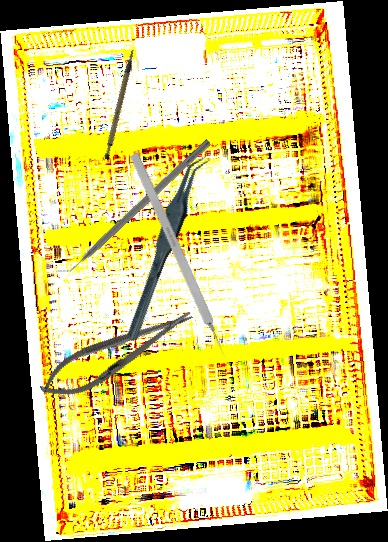Chopper: (52, 131, 212, 281)
Hook Surgical: (129, 152, 232, 364)
Needle Holder: (32, 297, 202, 410)
Scalpel Handle: (89, 49, 152, 161)
Tissue Forceps: (104, 149, 227, 344)
